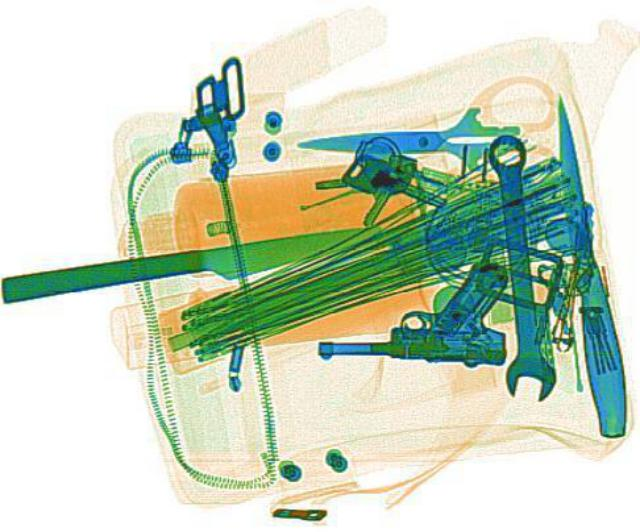Gun: (315, 256, 507, 364)
Knife: (0, 222, 388, 306), (544, 91, 632, 435), (294, 104, 520, 173)
Wrench: (482, 131, 556, 399)
